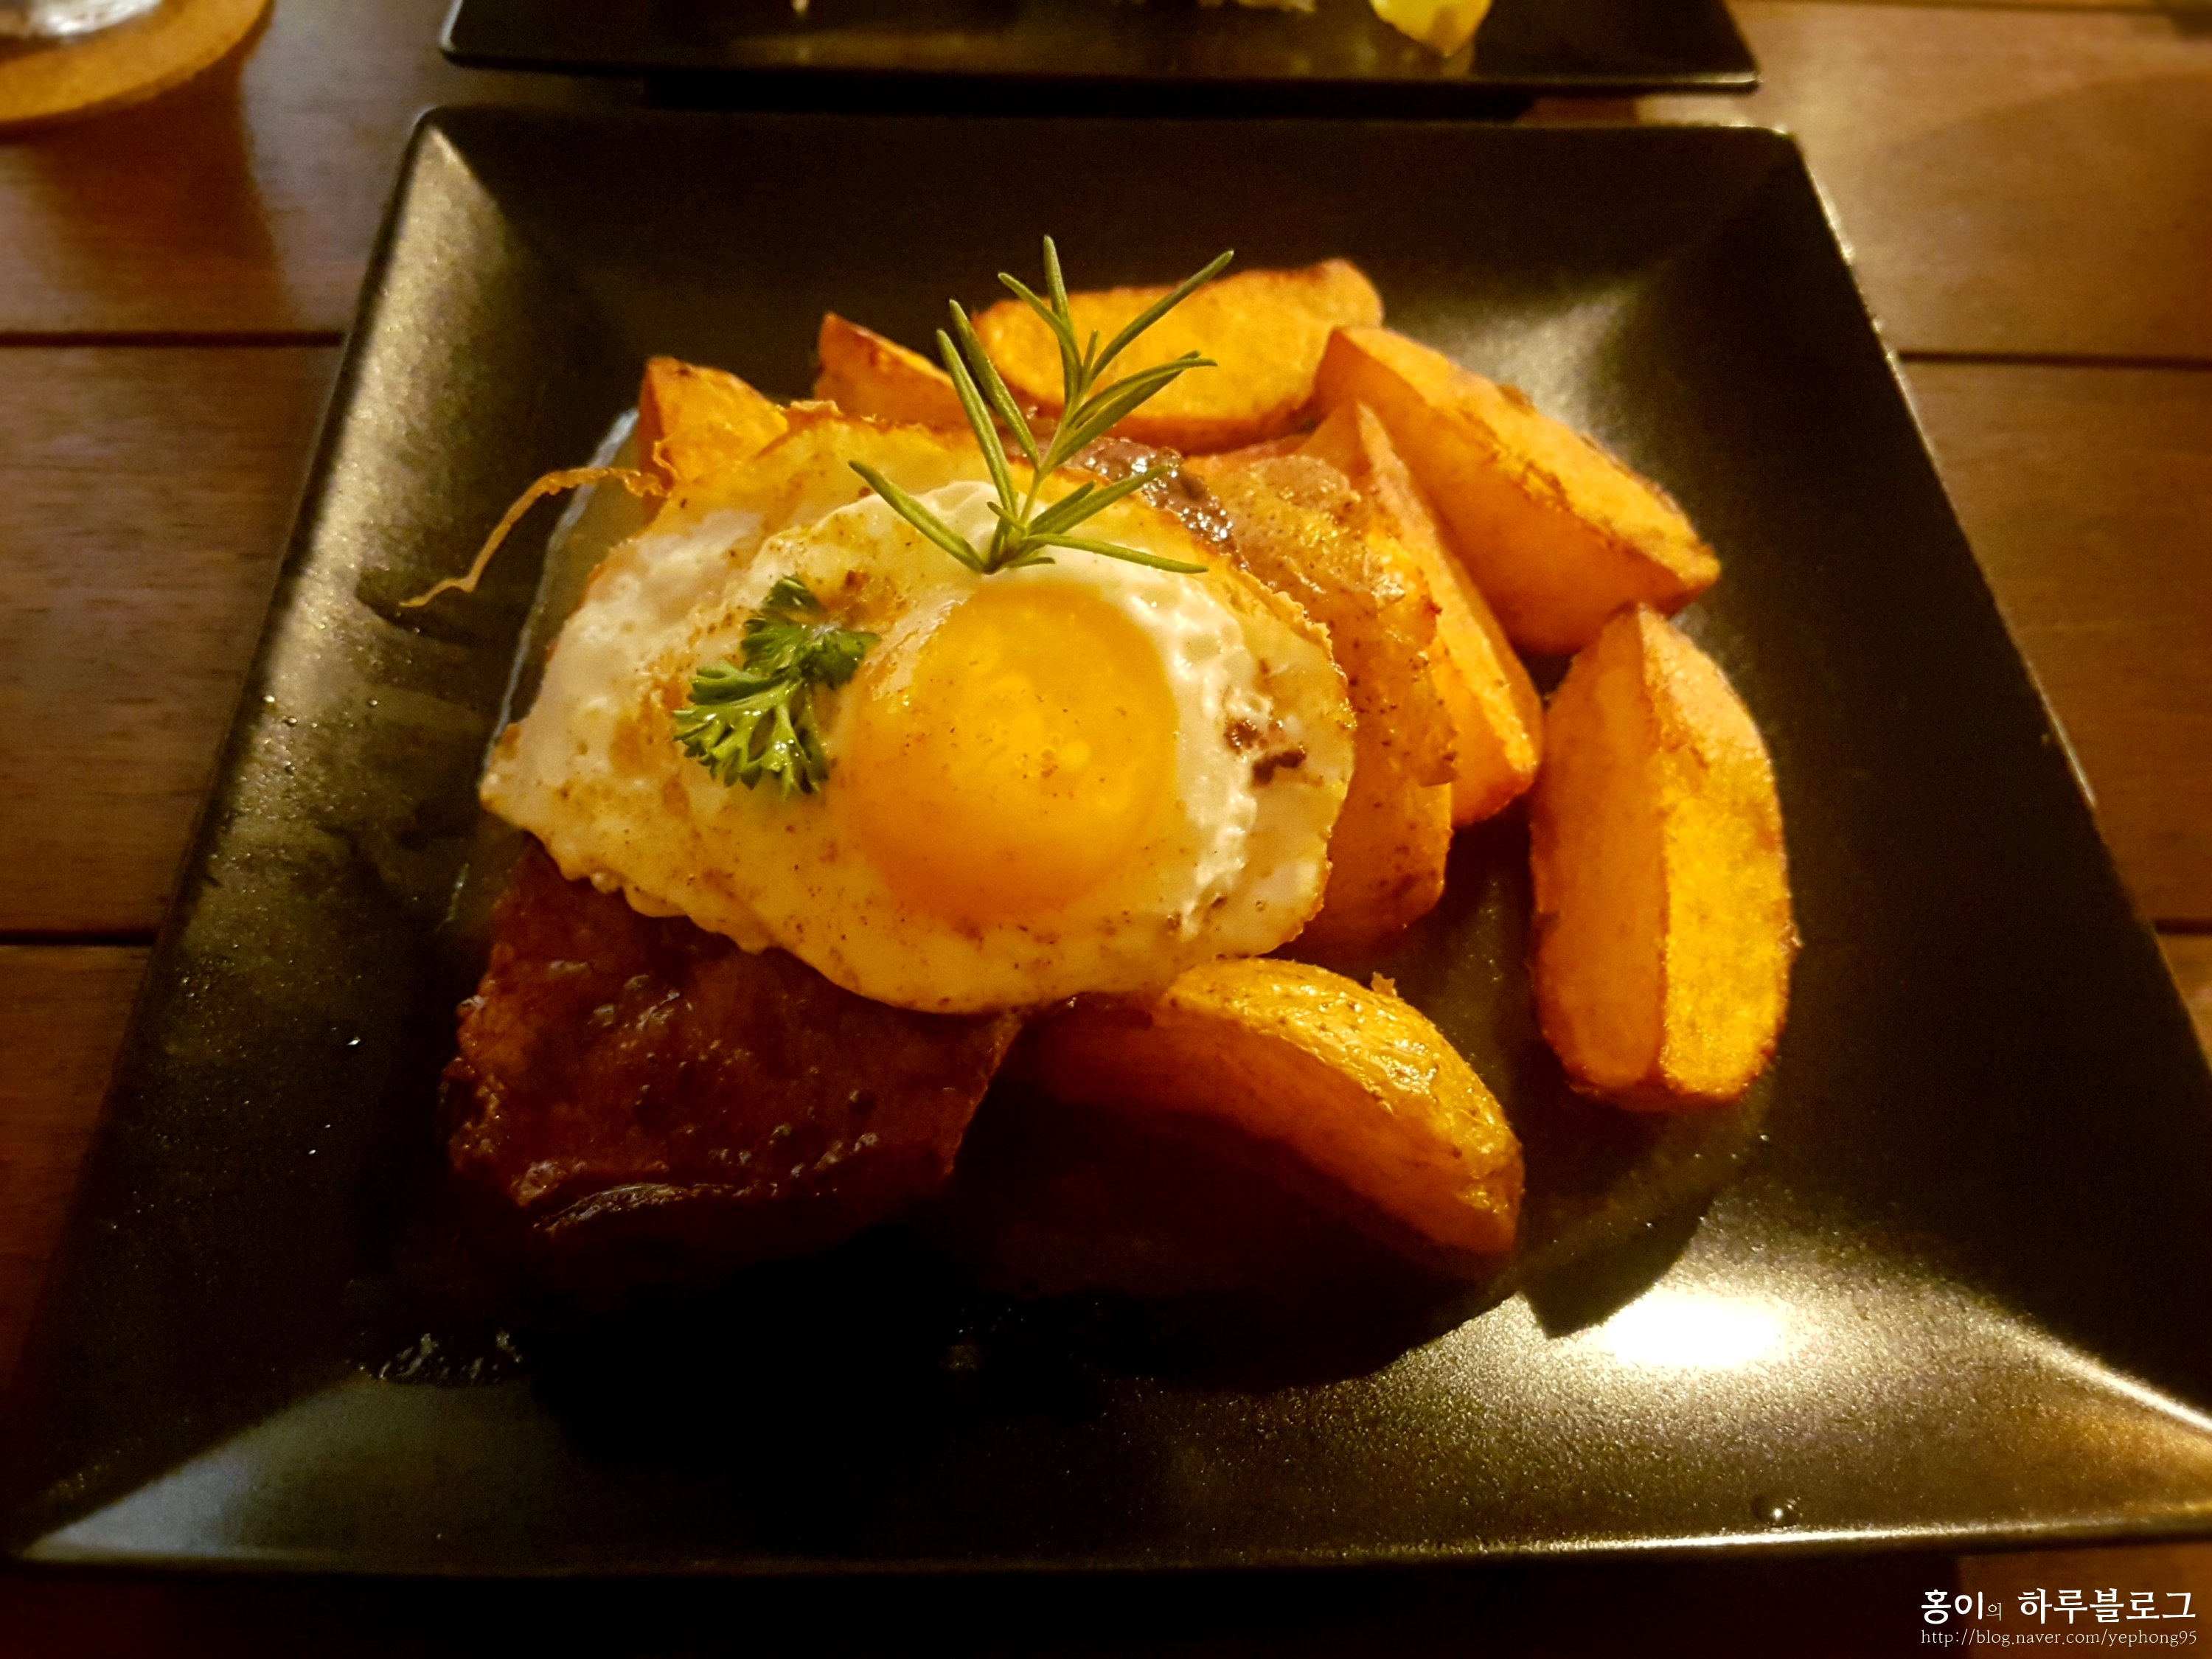boiled potatoes: (1468, 556, 1865, 1134)
fried egg: (674, 483, 1230, 965)
